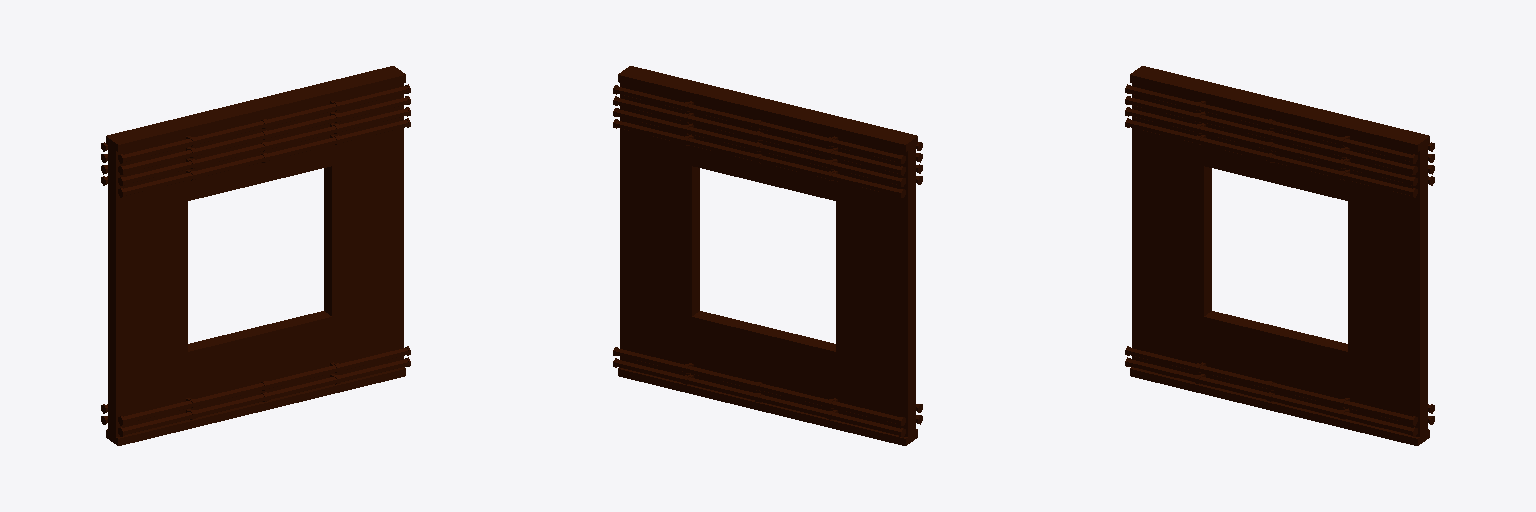
Rendered from 8x8_wall_hole_pipe.obj.
3 renders of one model, left to right at view 1: azimuth 30°, elevation 25°; view 2: azimuth 150°, elevation 25°; view 3: azimuth 330°, elevation 25°, orthographic.
Visible parts, largest first — view 1: wall, pipe; view 2: wall, pipe; view 3: wall, pipe.
Part boxes in pixels (bbox=[...]): wall: bbox=[106, 66, 405, 445]; pipe: bbox=[101, 84, 410, 436]; wall: bbox=[618, 66, 917, 445]; pipe: bbox=[613, 85, 922, 437]; wall: bbox=[1130, 66, 1429, 445]; pipe: bbox=[1125, 84, 1434, 436].
Size of the model in its own units: 8 by 8 by 1.05.